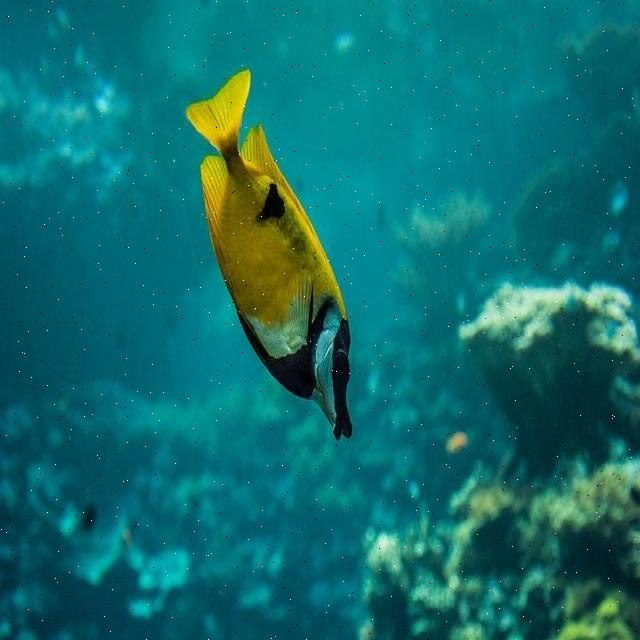fish: (186, 67, 355, 442)
